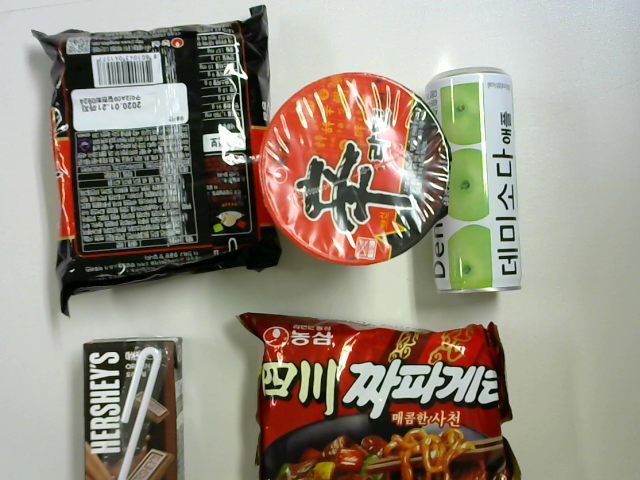Demisoda_Apple_Can_250ml: (417, 66, 531, 302)
Hush_Choco_Drink: (79, 336, 181, 480)
Sichuan_Chapaghetti: (239, 314, 520, 480)
Sinramen_Black: (37, 16, 285, 310)
Sinramen_small: (259, 70, 451, 266)
